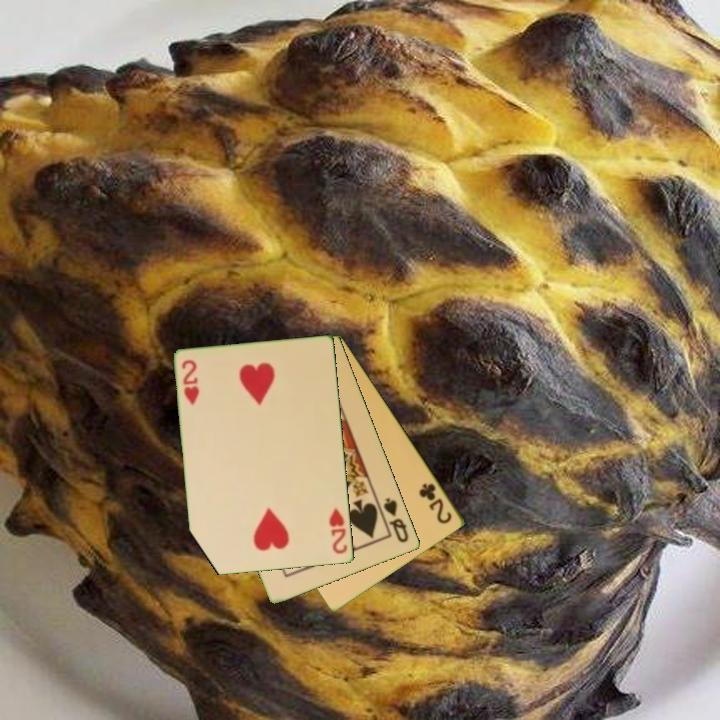2c: (416, 480, 455, 527)
2h: (326, 504, 350, 557), (179, 357, 202, 408)
Qs: (380, 494, 412, 546)
